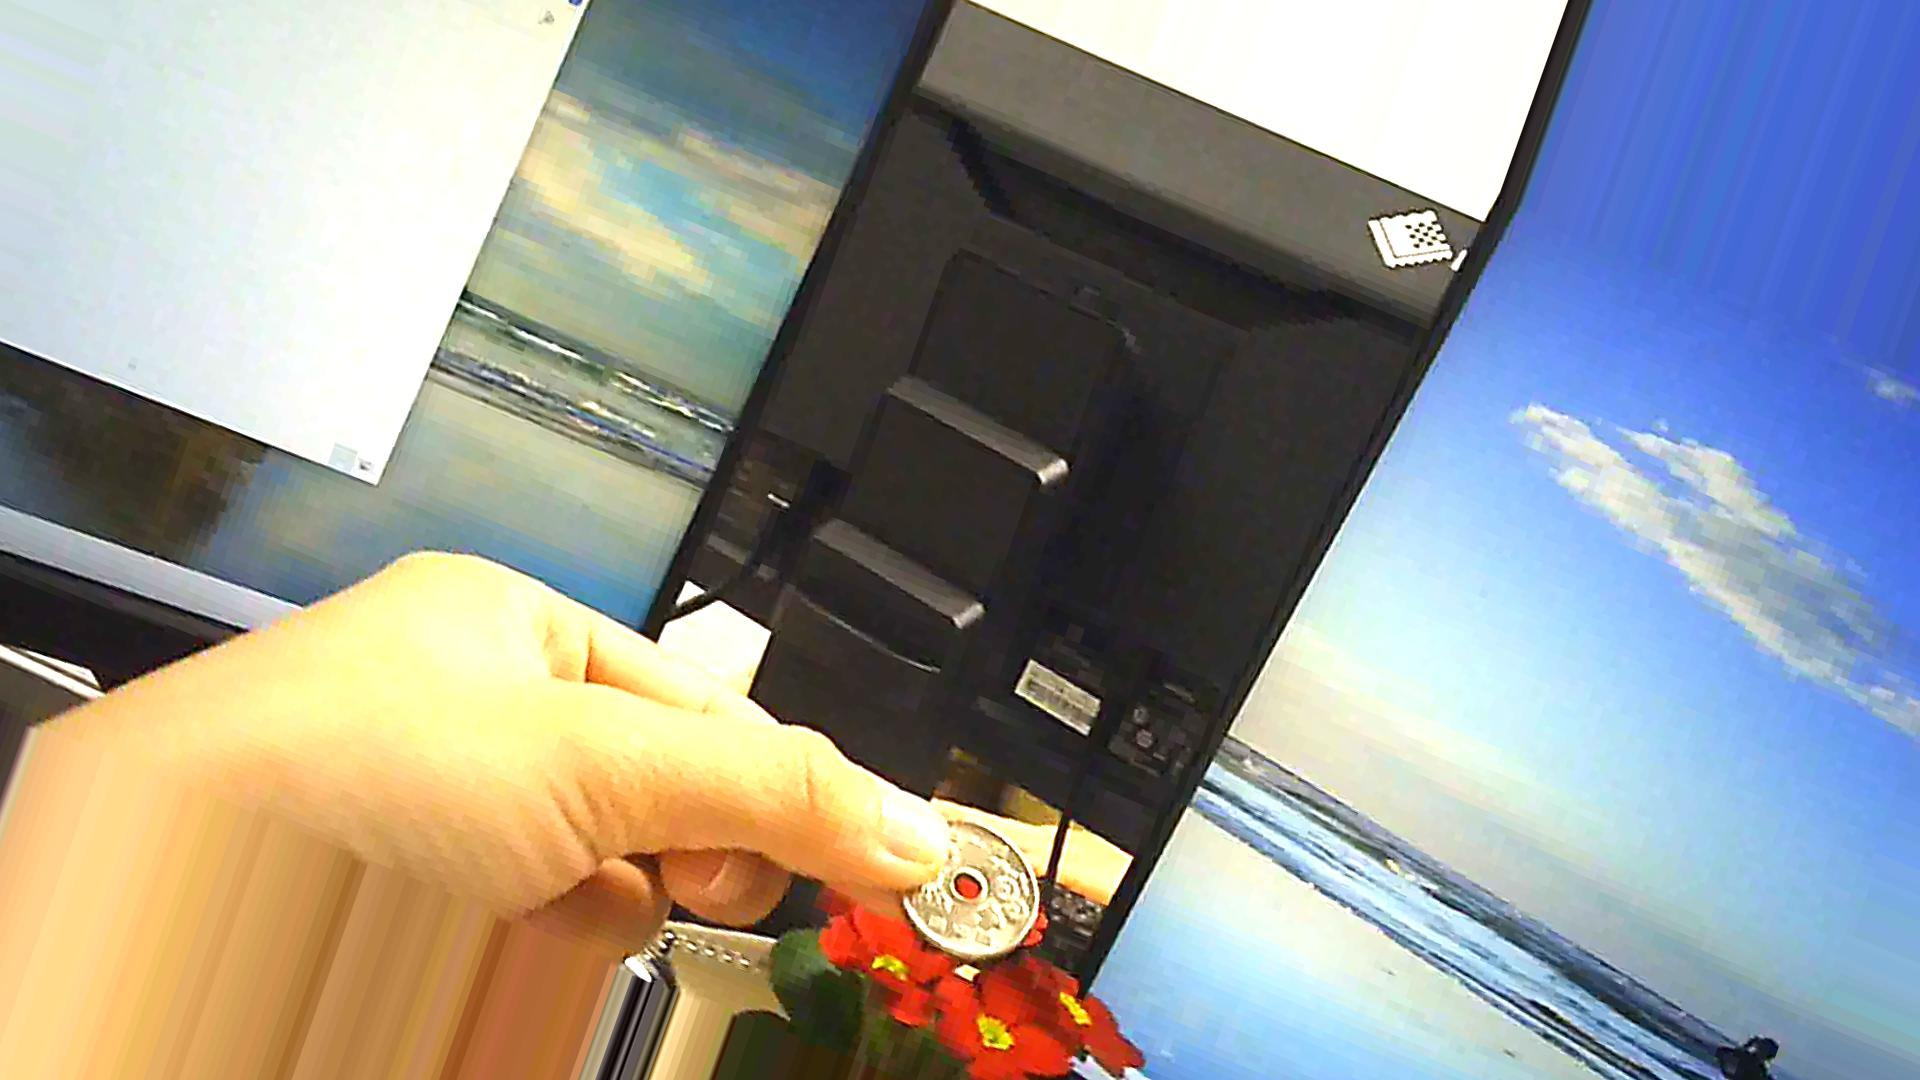50 Yen: (893, 807, 1044, 960)
